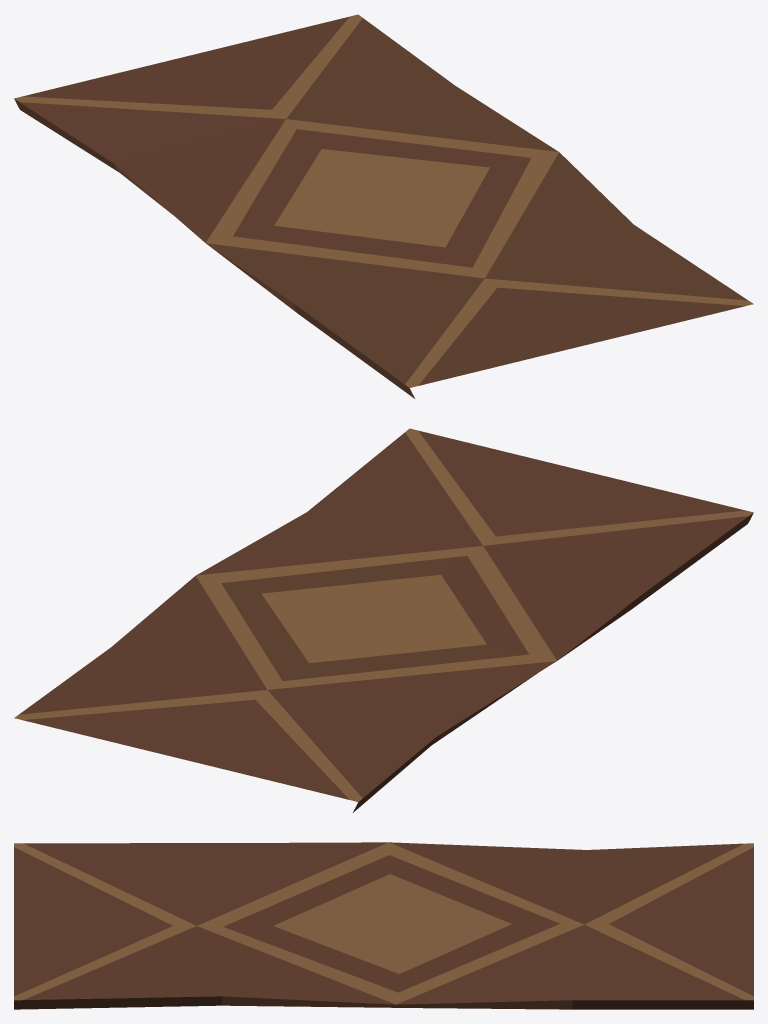
File: Rug_1_Way.gltf
The picture shows the model from 3 angles, top to bottom: view 1: azimuth 30°, elevation 25°; view 2: azimuth 150°, elevation 25°; view 3: azimuth 270°, elevation 25°; orthographic projection. The views are drawn at different scales.
Visible parts, largest first — view 1: Rug_1_Way2; view 2: Rug_1_Way2; view 3: Rug_1_Way2.
Part boxes in pixels (x1,y1,x2,y2): Rug_1_Way2: (14,14,753,398); Rug_1_Way2: (14,428,753,812); Rug_1_Way2: (14,842,753,1009).
Bounding box in the file's own units: 0.5218 × 0.0199 × 1.
1 material, 1 textured.
